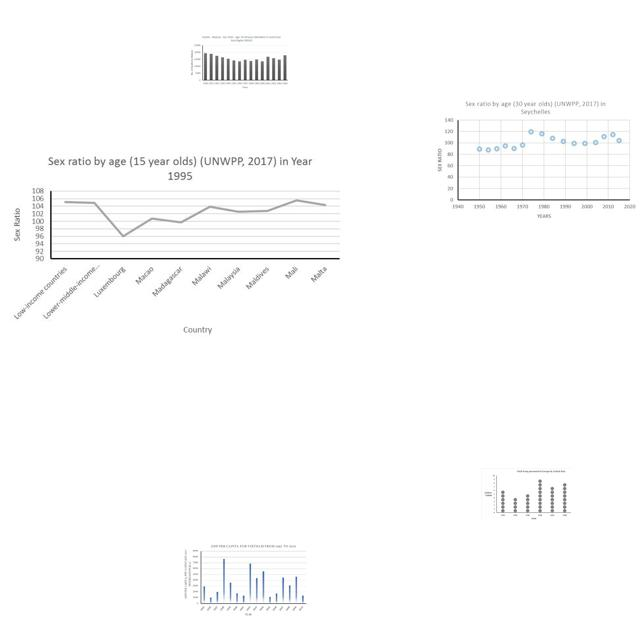Graph: (10, 147, 344, 344), (433, 98, 637, 220), (183, 543, 308, 617), (188, 34, 290, 91), (481, 468, 573, 522)
